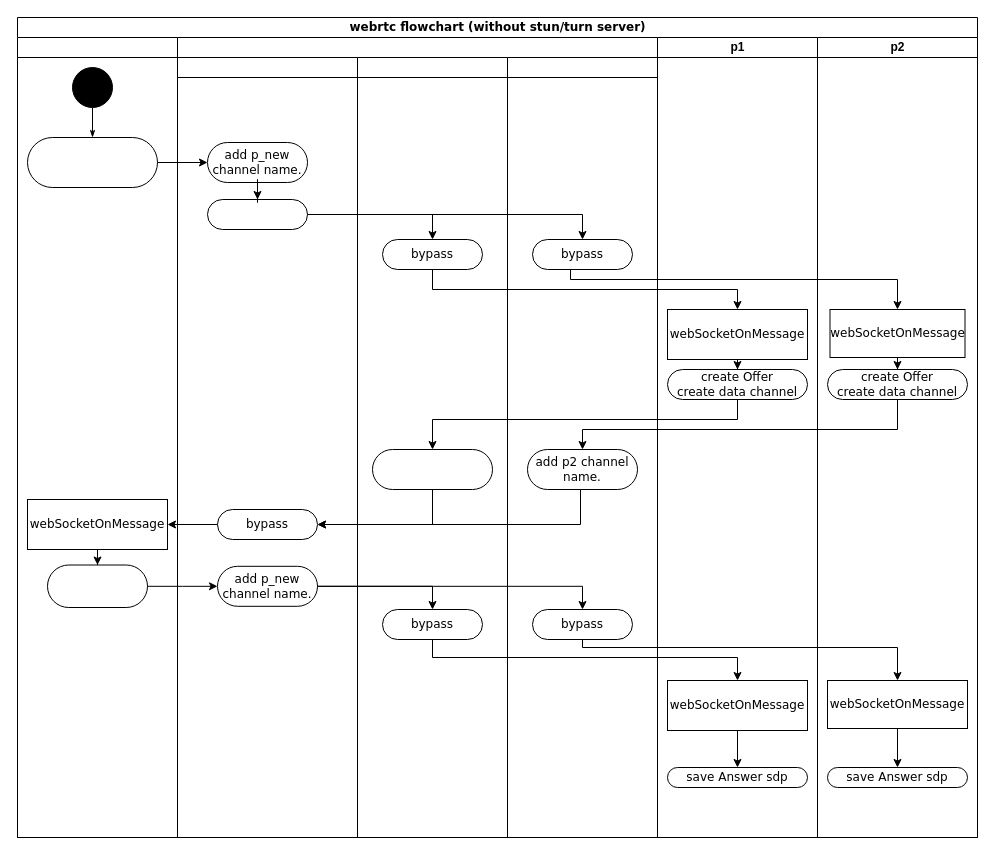
Some shapes in this 995 by 855 pixel diagram are drawn without their labels. The shapes that lost their labels are listed below. From the top down, each one's box as (x1, y1, x2, y2) in pixels, then its label:
(26, 136, 158, 188): {"action": "new-peer"}
(206, 198, 308, 230): broadcast
(16, 36, 178, 838): p_new
(176, 56, 358, 838): p_new consumer instance
(176, 36, 658, 838): Django server channel layer (as signaling server)
(356, 56, 508, 838): p1 consumer instance
(506, 56, 658, 838): p2 consumer instance
(372, 448, 492, 490): add p1 channel name.
(46, 564, 148, 608): save Offer sdp create Answer
